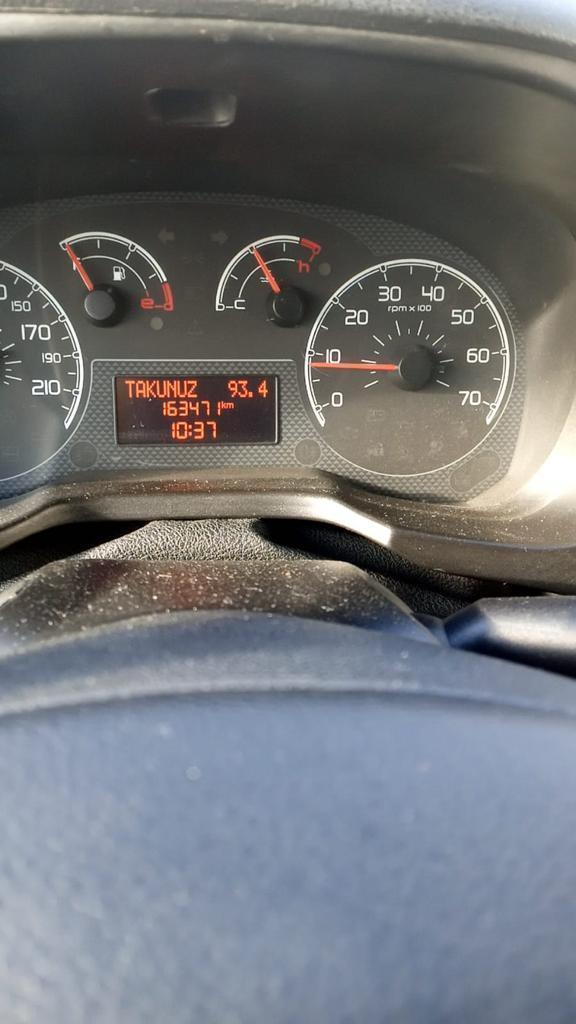,: (248, 390, 254, 398)
0: (176, 420, 187, 439)
1: (171, 421, 175, 439), (217, 400, 221, 417), (162, 401, 166, 416)
3: (237, 379, 248, 398), (193, 420, 204, 439), (178, 400, 188, 416)
4: (257, 379, 269, 400), (189, 400, 199, 416)
6: (166, 400, 177, 416)
7: (205, 420, 216, 438), (200, 399, 210, 416)
9: (227, 379, 237, 397)
X: (124, 378, 135, 398), (187, 379, 198, 398), (135, 379, 146, 398), (166, 379, 176, 398), (156, 379, 166, 398), (146, 379, 156, 398), (177, 379, 187, 397), (226, 402, 235, 409), (188, 423, 192, 437), (221, 399, 226, 408)
odometer: (109, 371, 282, 448)
